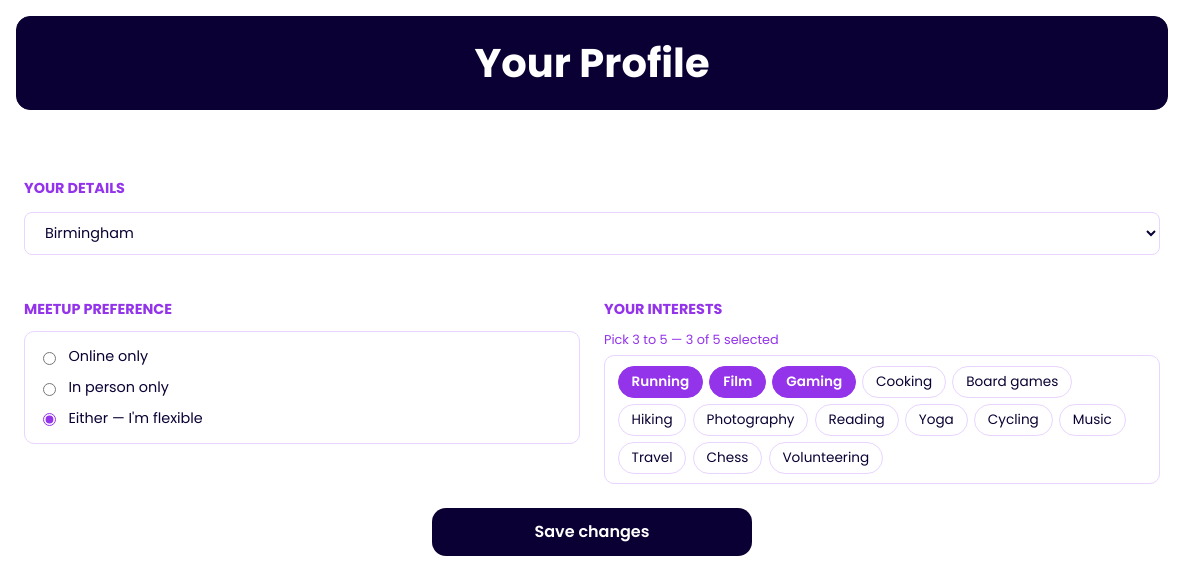
Profile component › shows saved confirmation after clicking save
The image size is (1185, 573).
Click the button "Save changes": {"x": 592, "y": 532} [432,508,752,556]
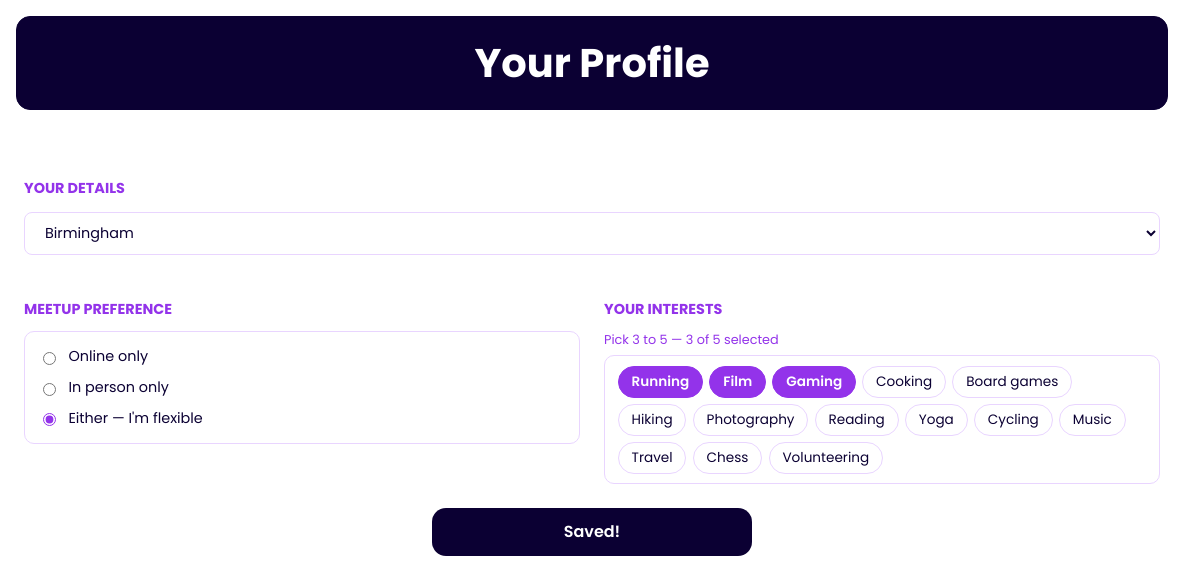
Result: the button "Saved!" is shown at [432,508,752,556]
